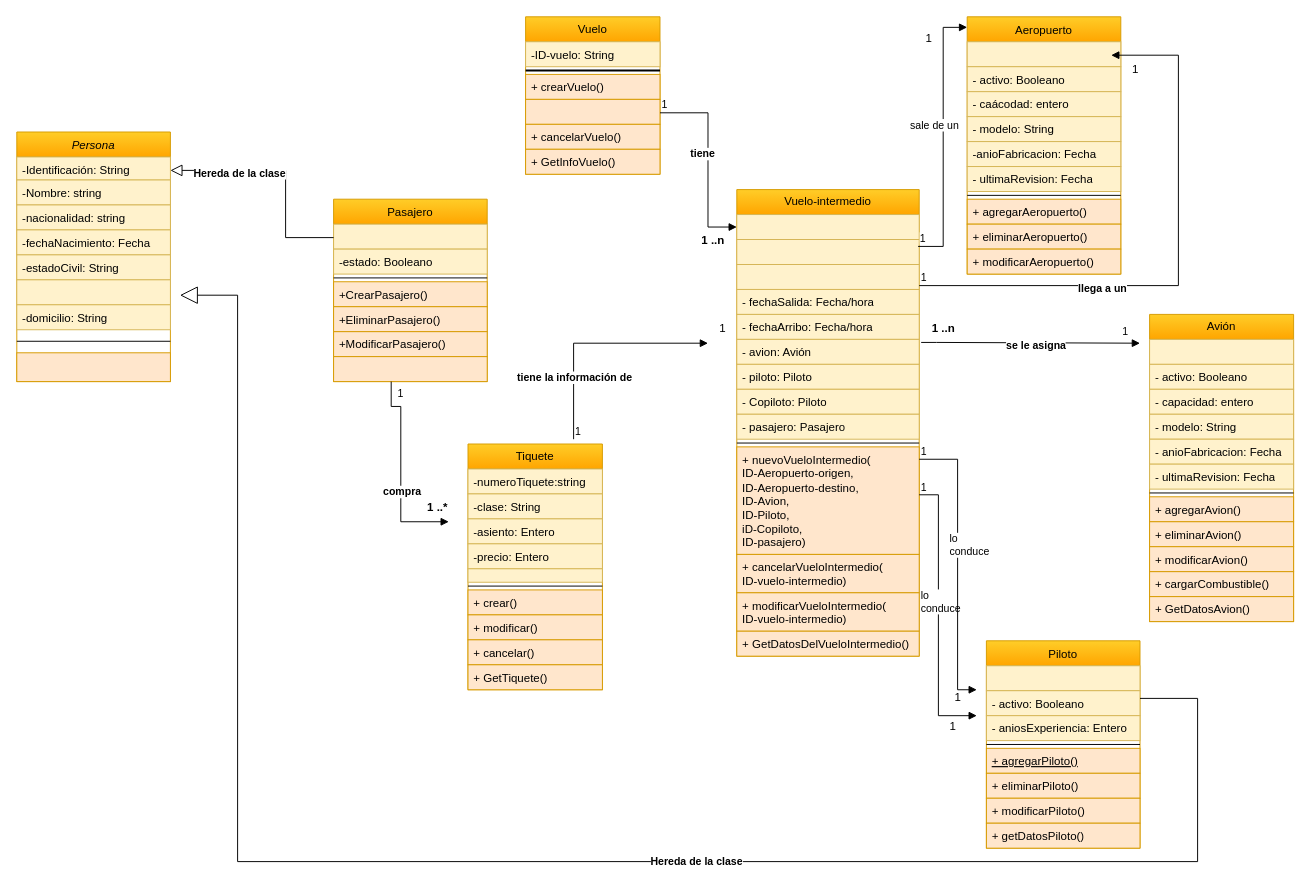
Image size: 1310x896. Some labels were removed from this diagram. Each missing label, with the centre of its shape:
"+ modificarVuelo()" belongs at point 592,111.
"+GetDatosPasajero()" belongs at point 410,369.
"- aeropuerto-destino: Aeropuerto" belongs at point 827,276.
"- aeropuerto-origen: Aeropuerto" belongs at point 827,251.
"- ID-Avion: String" belongs at point 1221,351.
"- ID-Piloto: String" belongs at point 1062,678.
"- ID-vuelo-intermedio" belongs at point 827,227.
"-ID-Aeropuerto: String" belongs at point 1043,54.
"-ID-pasajero: String" belongs at point 410,236.
"-paisResidencia: String" belongs at point 93,292.
